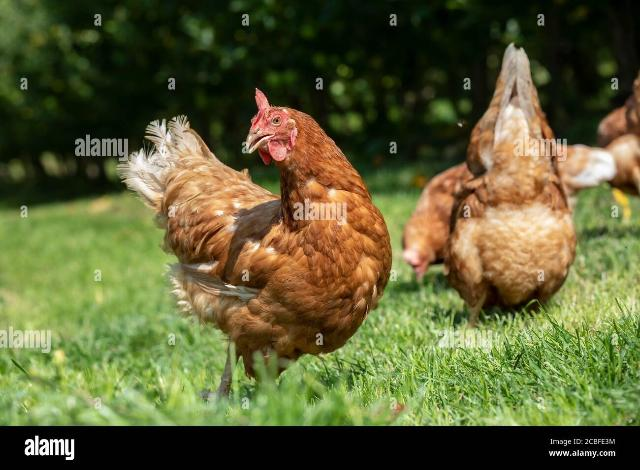Chicken: (116, 88, 392, 403), (447, 44, 577, 321)
